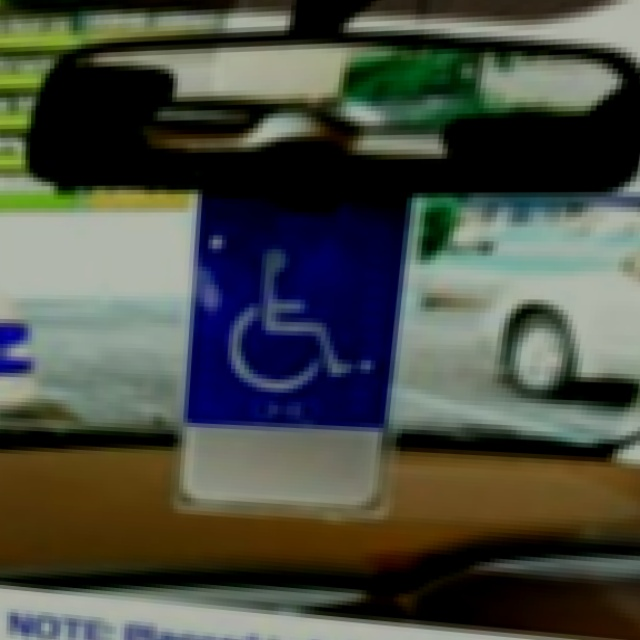ISA: (200, 242, 370, 394)
